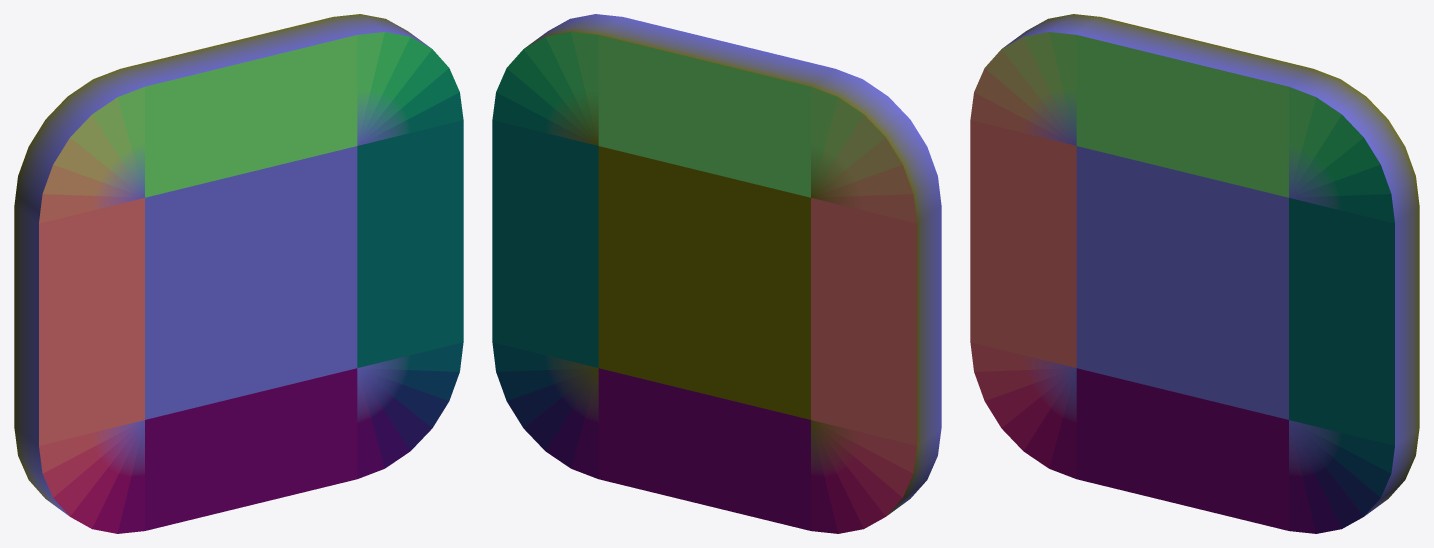
The model's file is thick_6x6.fbx.
3 renders of one model, left to right at view 1: azimuth 30°, elevation 25°; view 2: azimuth 150°, elevation 25°; view 3: azimuth 330°, elevation 25°, orthographic.
Visible parts, largest first — view 1: beveled_edge; view 2: beveled_edge; view 3: beveled_edge.
Part boxes in pixels (left/top/right/bottom): beveled_edge: left=14, top=14, right=463, bottom=533; beveled_edge: left=492, top=14, right=941, bottom=533; beveled_edge: left=970, top=14, right=1419, bottom=533.
Bounding box in the file's own units: 1 × 1 × 0.1.
